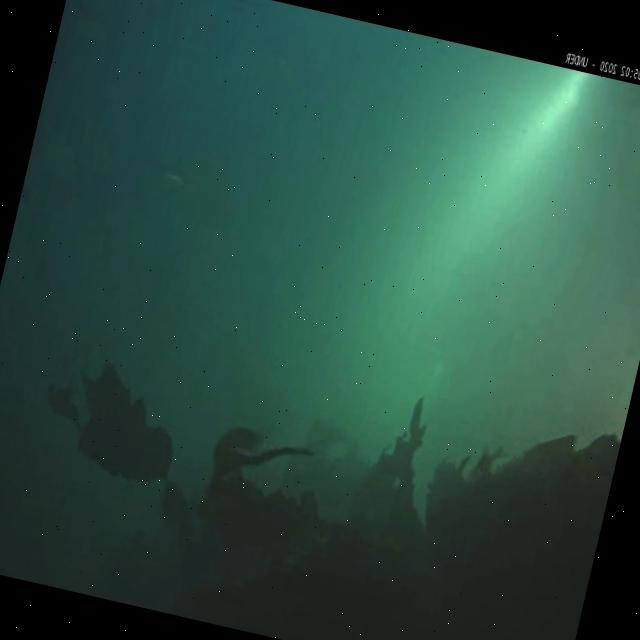fish: (158, 162, 196, 190)
